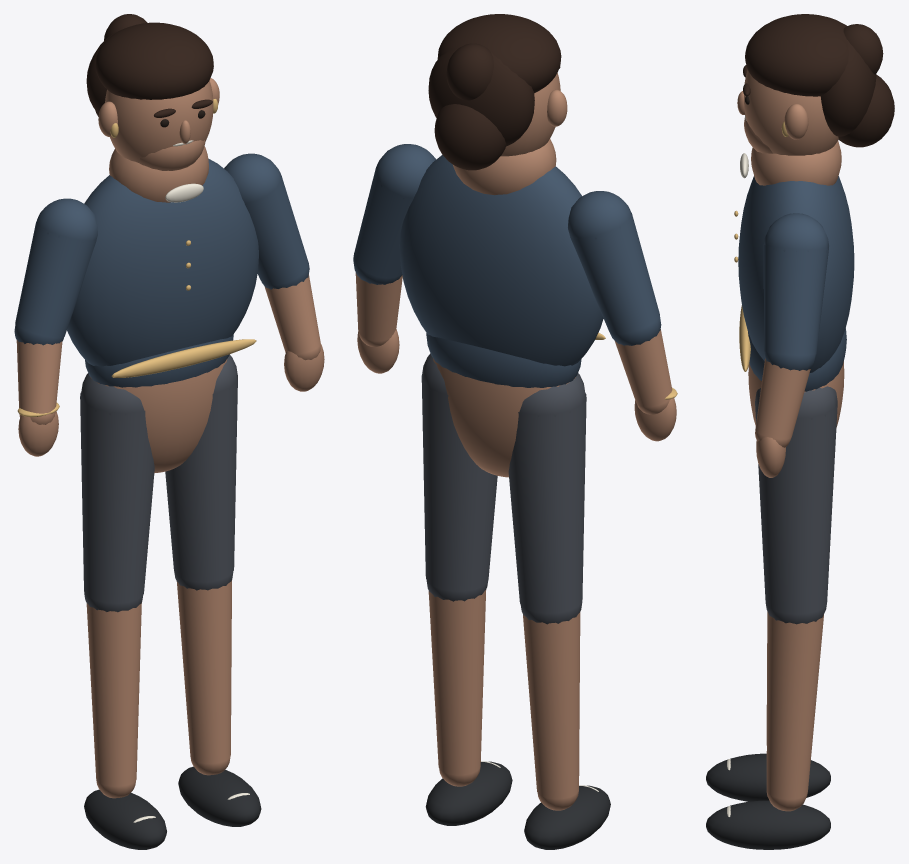
The model's file is Female.glb.
3 views of the same model, side by side, from view 1: azimuth 30°, elevation 25°; view 2: azimuth 150°, elevation 25°; view 3: azimuth 270°, elevation 25° (orthographic). The views are drawn at different scales.
Visible parts, largest first — view 1: Female_top, Female_skin, Female_trousers, Female_hair, Female_shoes, Female_gold, Female_ivory; view 2: Female_top, Female_skin, Female_trousers, Female_hair, Female_shoes; view 3: Female_skin, Female_top, Female_trousers, Female_hair, Female_shoes, Female_gold.
Part boxes in pixels (x1,y1,x2,y2): Female_top: [14, 153, 309, 387]; Female_skin: [16, 78, 324, 798]; Female_trousers: [80, 354, 237, 612]; Female_hair: [86, 14, 213, 117]; Female_shoes: [84, 766, 261, 849]; Female_gold: [17, 99, 256, 416]; Female_ivory: [133, 140, 249, 822]; Female_top: [353, 144, 661, 387]; Female_skin: [355, 73, 676, 810]; Female_trousers: [421, 353, 586, 624]; Female_hair: [428, 14, 561, 170]; Female_shoes: [425, 761, 610, 849]; Female_skin: [737, 70, 844, 811]; Female_top: [738, 176, 854, 391]; Female_trousers: [755, 386, 837, 624]; Female_hair: [743, 14, 894, 147]; Female_shoes: [706, 753, 830, 849]; Female_gold: [734, 121, 788, 371].
Size of the model in its own units: 0.71 by 1.75 by 0.3737.
